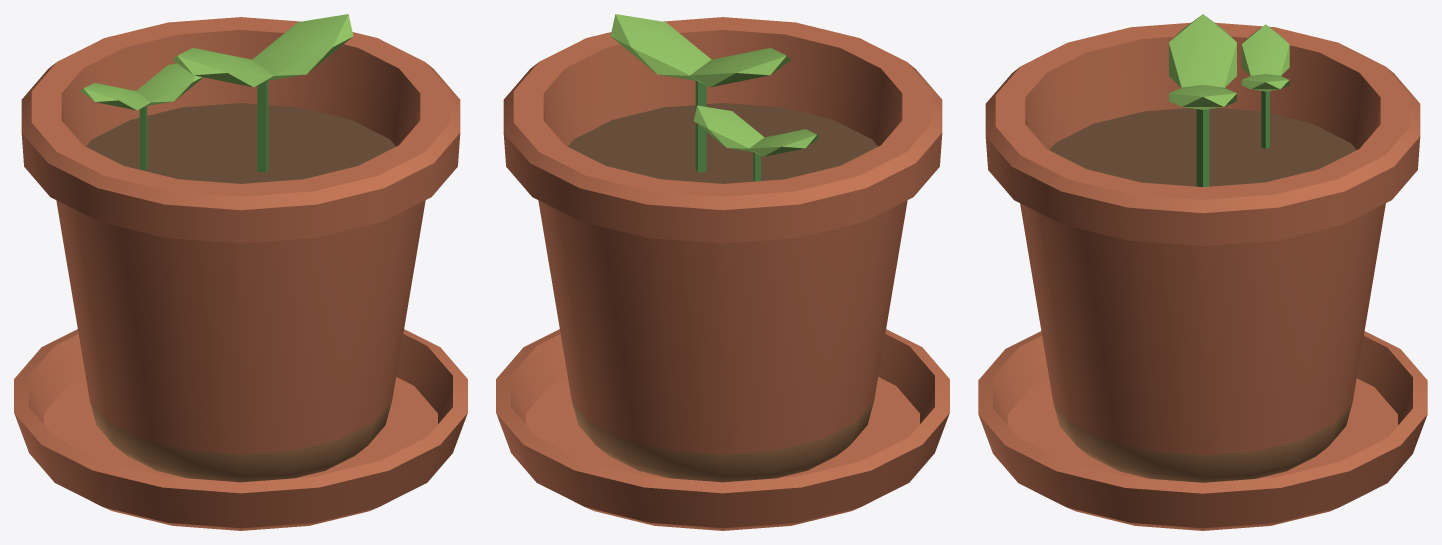
File: SC_Home_Plastic_Pot_S.gltf
3 renders of one model, left to right at view 1: azimuth 30°, elevation 25°; view 2: azimuth 150°, elevation 25°; view 3: azimuth 270°, elevation 25°, orthographic.
Visible parts, largest first — view 1: SC_Home_Plastic_Pot_S; view 2: SC_Home_Plastic_Pot_S; view 3: SC_Home_Plastic_Pot_S.
Boxes of the visible parts, x1,y1,x2,y2 form: SC_Home_Plastic_Pot_S: [14, 14, 467, 530]; SC_Home_Plastic_Pot_S: [496, 14, 949, 530]; SC_Home_Plastic_Pot_S: [978, 14, 1427, 530].
Bounding box in the file's own units: 0.182 × 0.1771 × 0.1792.
Materials: 1 (1 with a texture image).
